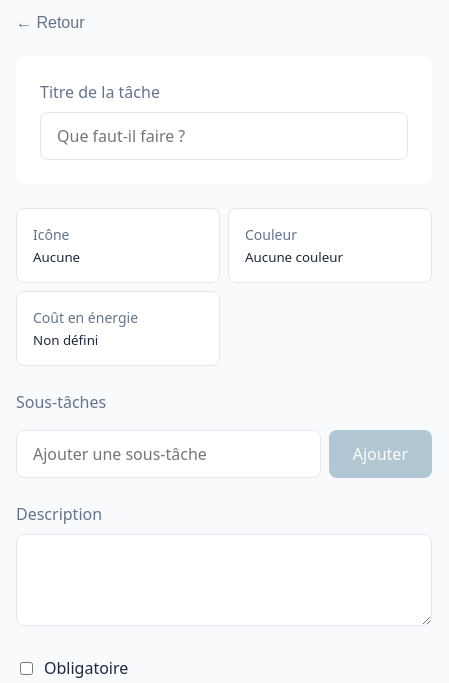
it: E21CreateTaskV2 › E21 reprend le mode replié/dépliable au tap d'E22 : un seul champ ouvert à la fois (#37)
What coordinates should you click on to do the following:
click the button with aria-label "Modifier Icône"
I would click on:
 (118, 246)
Its box is [33,225,203,266].
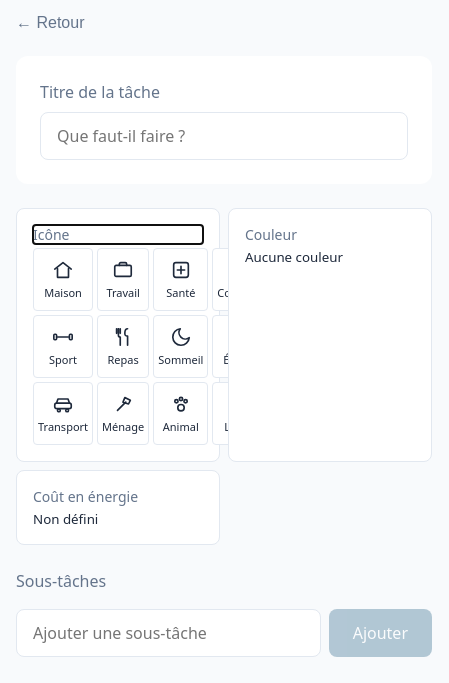
Now the button with aria-label "Modifier Icône" is expanded, box [33,225,203,244]
What coordinates should you click on to do the following:
click the button with aria-label "Modifier Couleur"
I would click on:
 (330, 246)
Its box is [245,225,415,266].
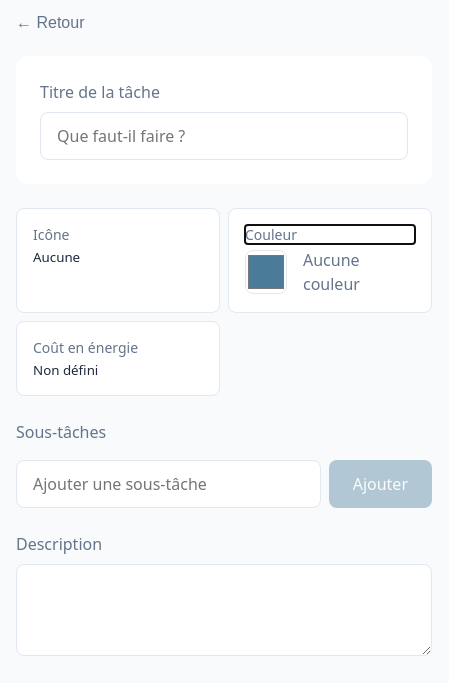
Now the button with aria-label "Modifier Icône" is collapsed, box [33,225,203,266]
Now the button with aria-label "Modifier Couleur" is expanded, box [245,225,415,244]
